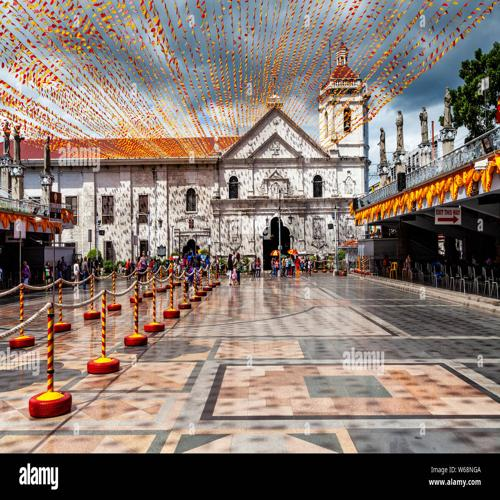Sto. Nino Basilica Church: (215, 38, 373, 272)
